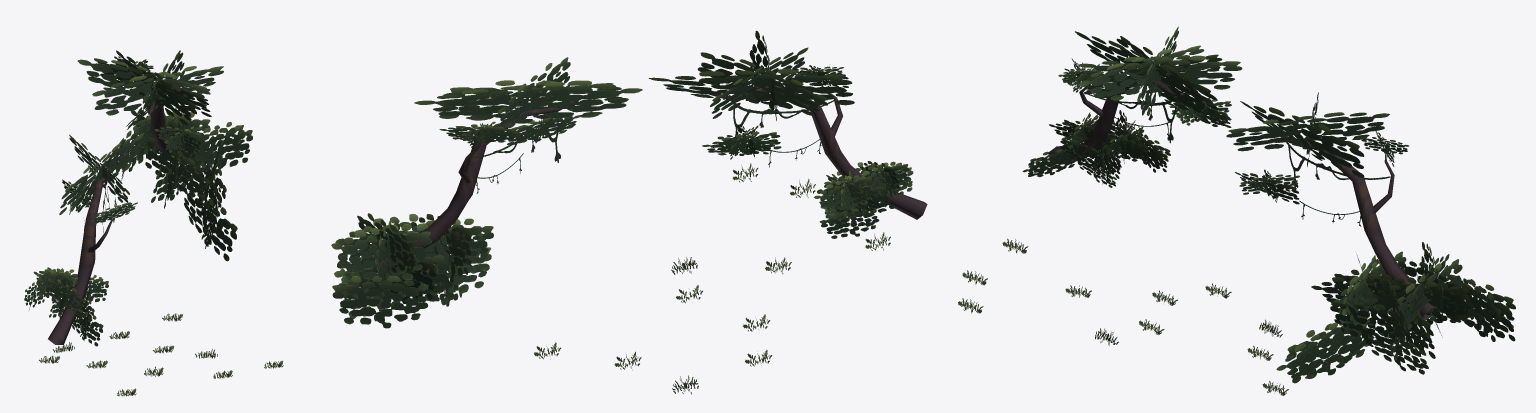
Rendered from Pantano03.fbx.
3 renders of one model, left to right at view 1: azimuth 30°, elevation 25°; view 2: azimuth 150°, elevation 25°; view 3: azimuth 270°, elevation 25°, orthographic. The views are drawn at different scales.
Parts seen in each view (by area): view 1: Pantano03; view 2: Pantano03; view 3: Pantano03.
Boxes of the visible parts, box(x1,y1,x2,y2) form: Pantano03: box(24, 50, 283, 396); Pantano03: box(331, 30, 927, 394); Pantano03: box(958, 26, 1515, 395).
Size of the model in its own units: 78.56 by 54.72 by 94.26.
